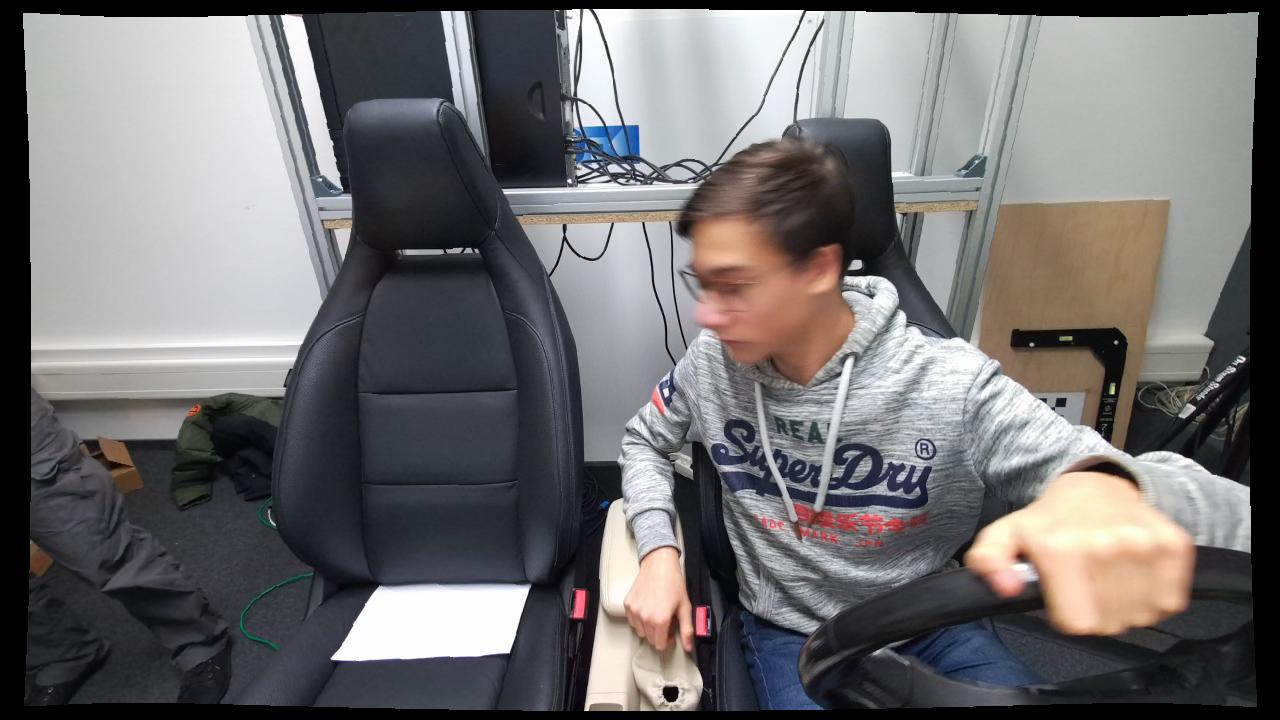Distracted: (613, 133, 1006, 709)
